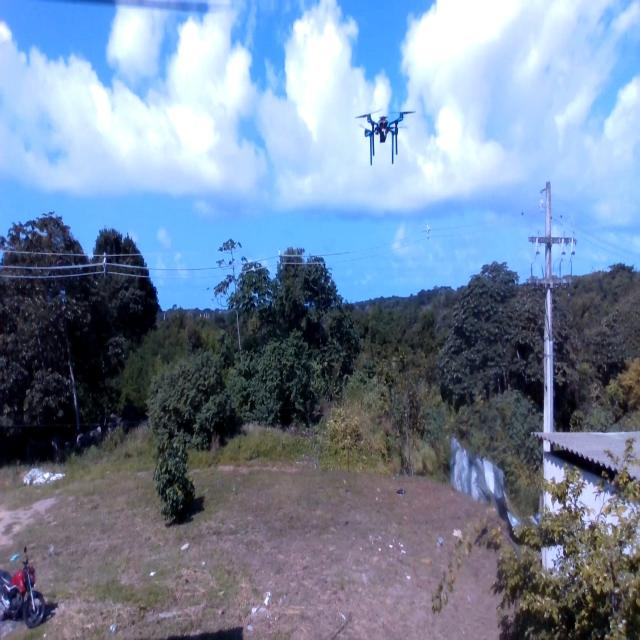-uav-: (348, 96, 421, 170)
